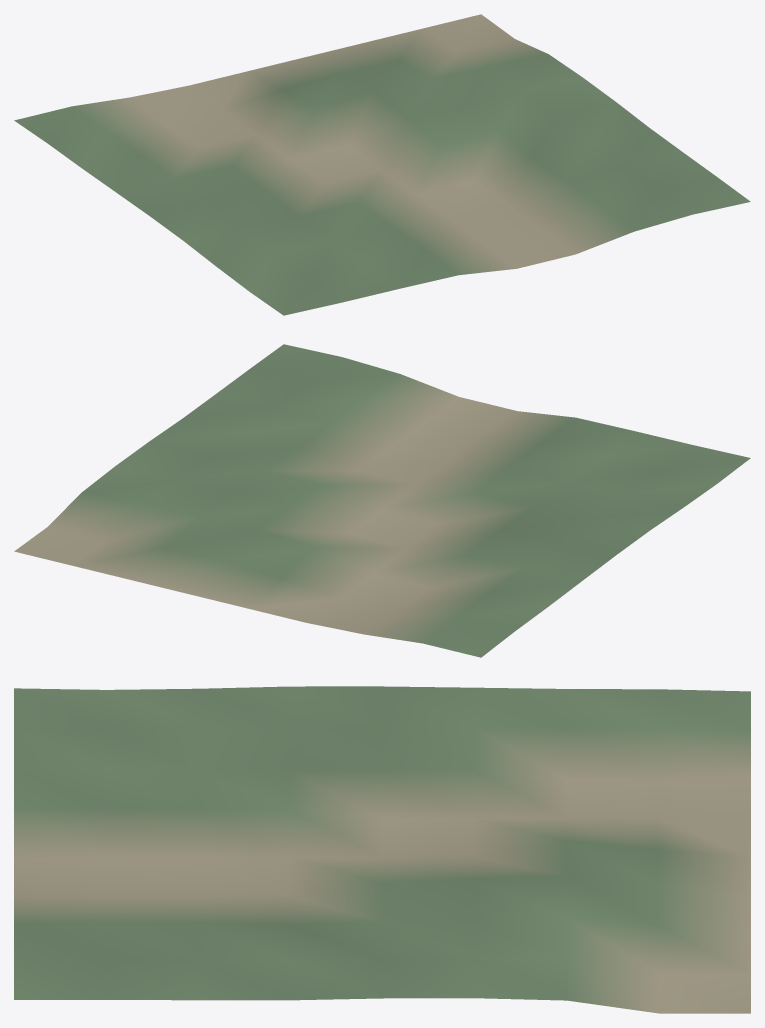
3 renders of one model, top to bottom at view 1: azimuth 30°, elevation 25°; view 2: azimuth 150°, elevation 25°; view 3: azimuth 270°, elevation 25°, orthographic. The views are drawn at different scales.
Visible parts, largest first — view 1: Lo; view 2: Lo; view 3: Lo.
Boxes of the visible parts, box(x1,y1,x2,y2) form: Lo: box(14, 14, 750, 315); Lo: box(14, 344, 750, 657); Lo: box(14, 686, 750, 1013).
Size of the model in its own units: 256 by 7.79 by 256.
